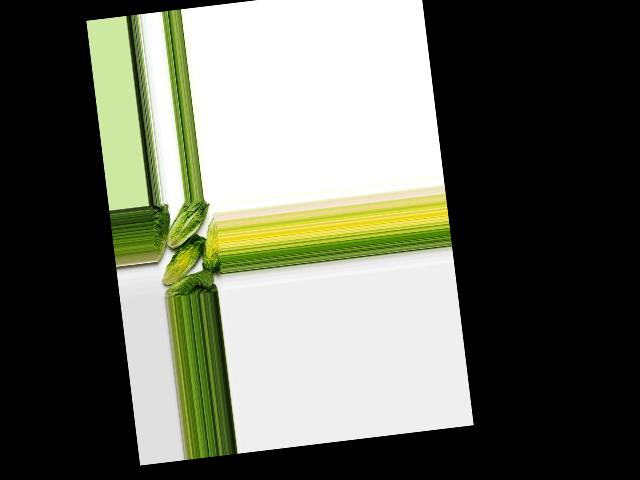lettuce: (163, 267, 218, 298)
